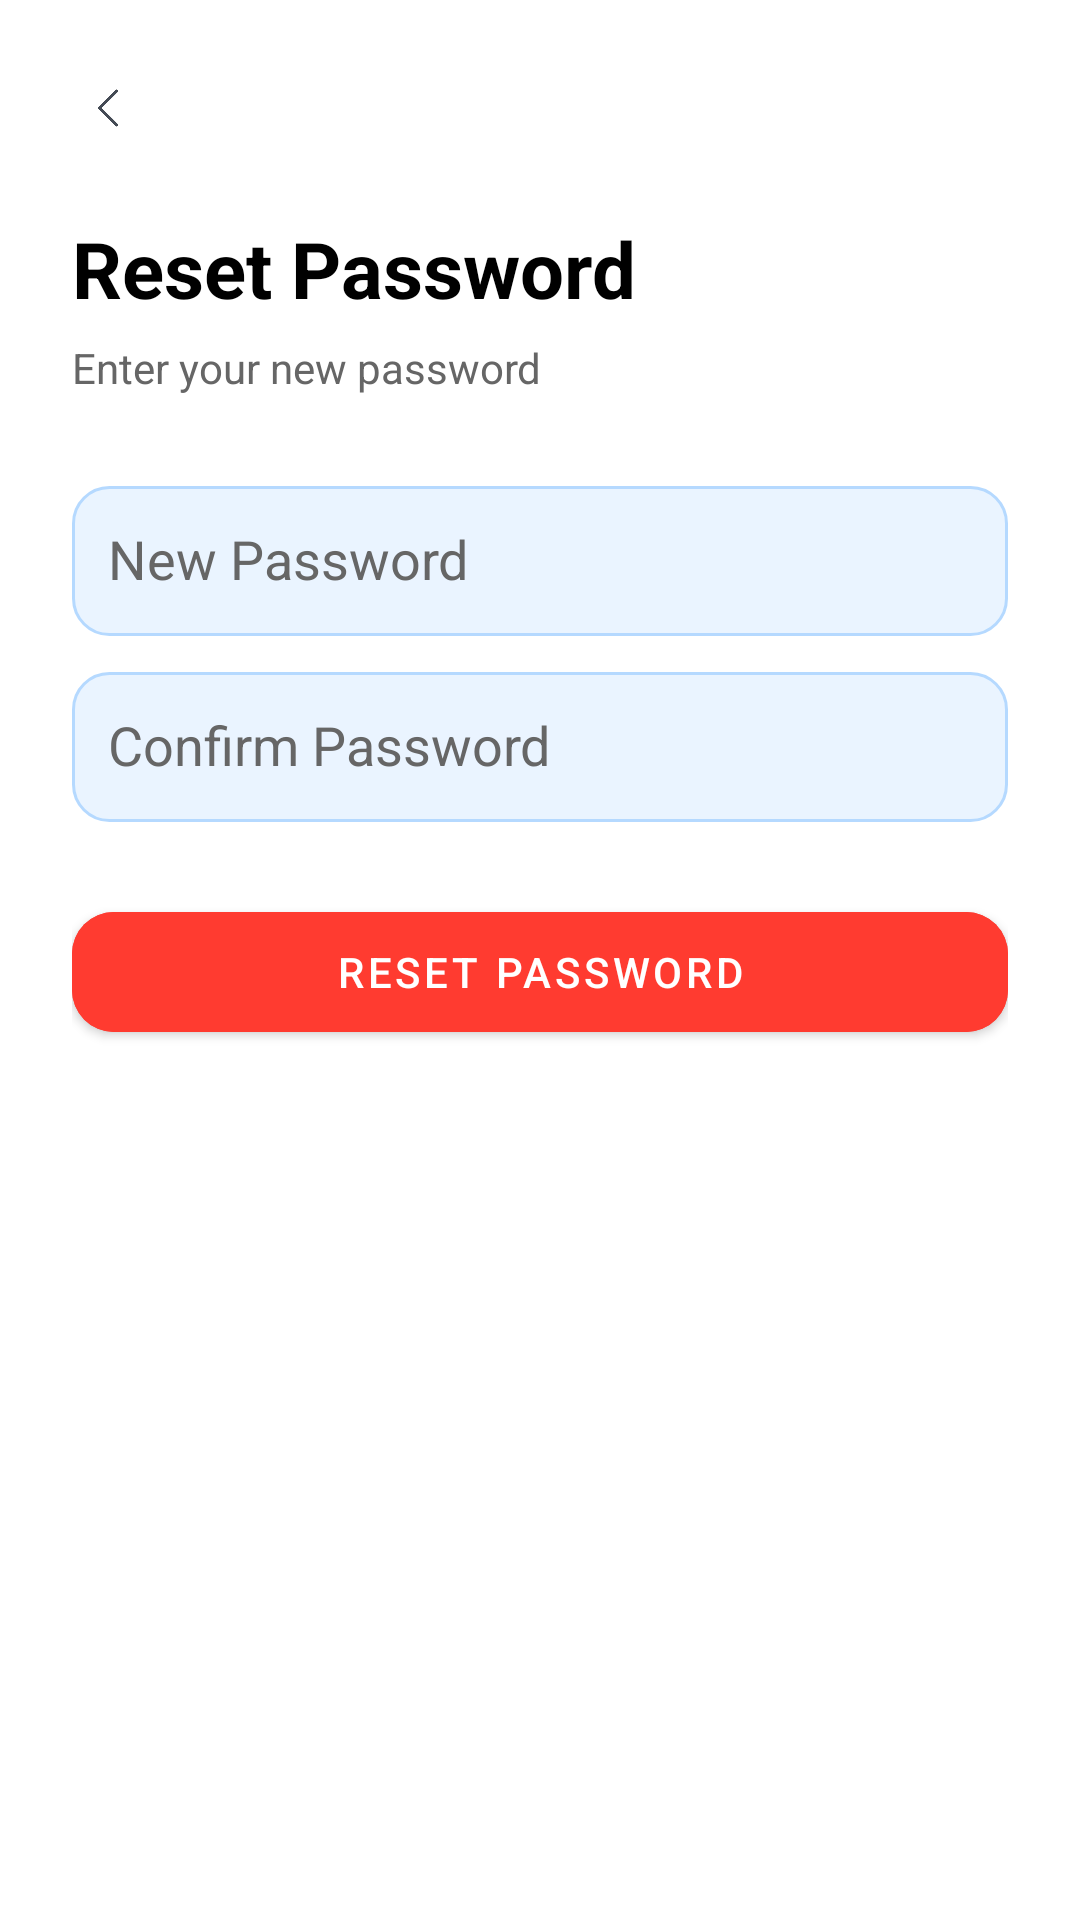

Icons on this 1080w x 1920h Android screen, each with the point to tap as point (x, y):
back: point (108, 108)
